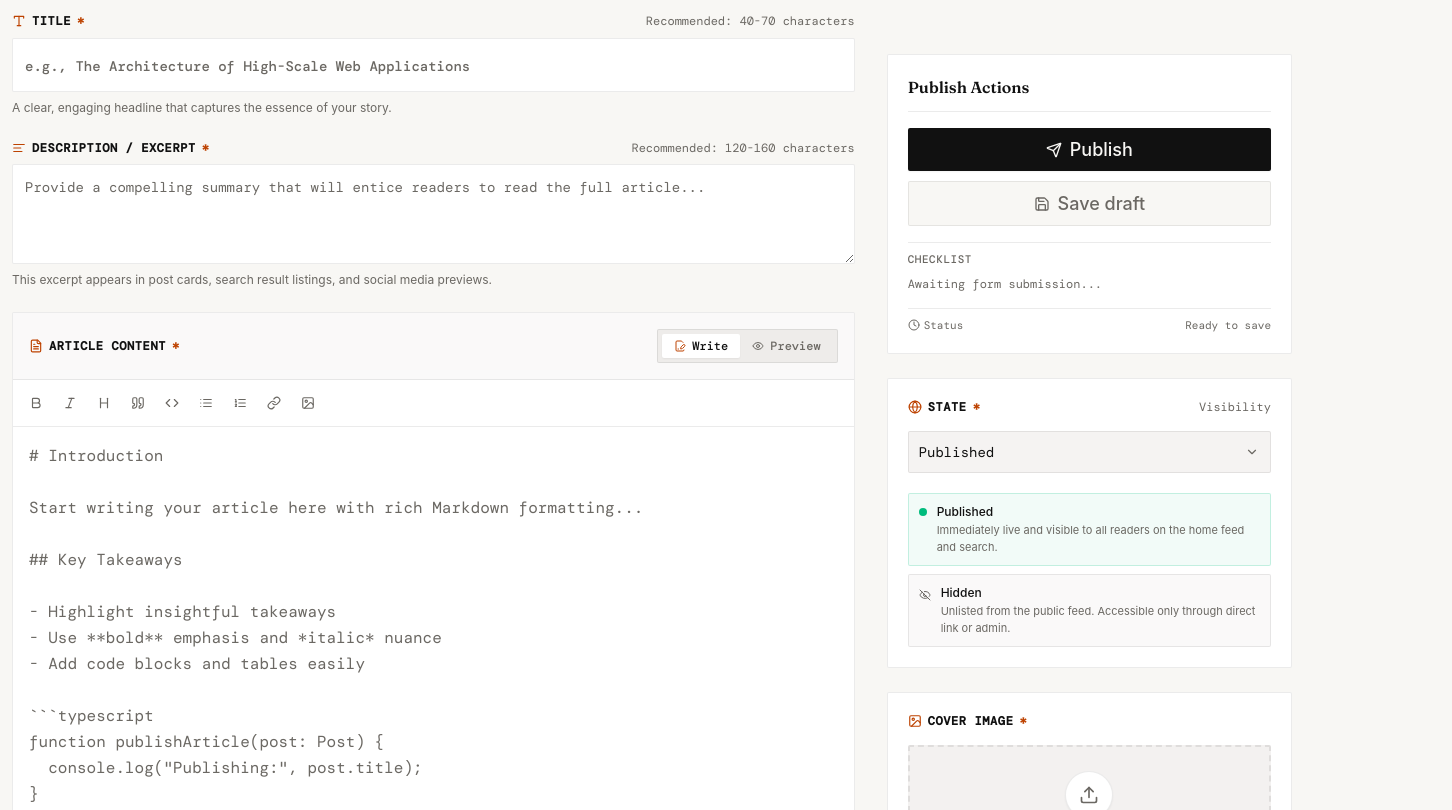
PostForm component › Form Validation - Create Mode (createPostSchema) › should display checklist error items with error messages after submission fails
The width and height of the screenshot is (1452, 810).
Click the button "Publish": (1089, 150) [908,128,1271,171]
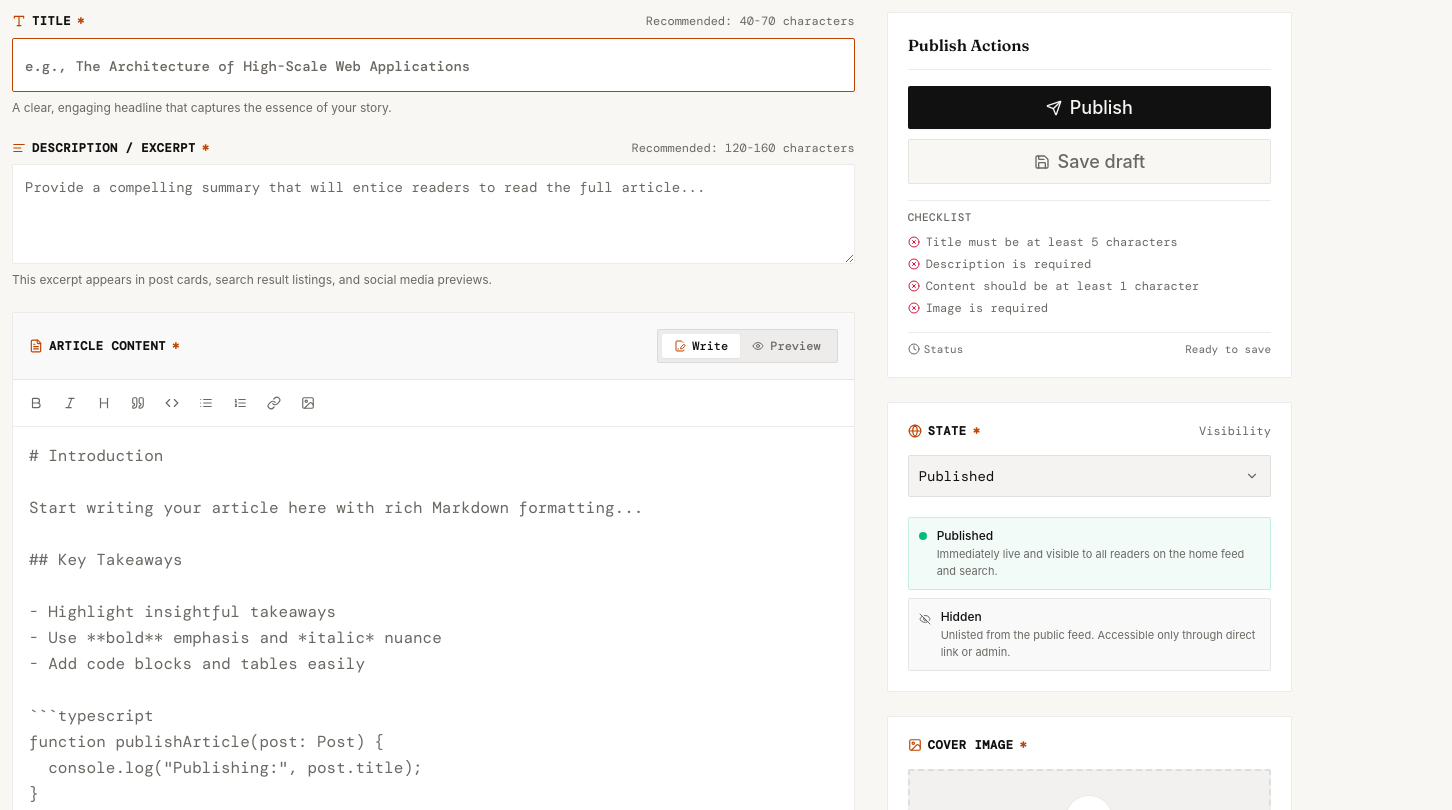
Result: the text "Awaiting form submission..." is gone
Result: the text "Title must be at least 5 characters" is shown at [926,234,1178,250]
Result: the text "Description is required" is shown at [926,256,1091,272]
